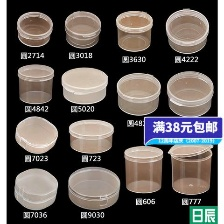plastic_box: (165, 139, 215, 199), (63, 163, 122, 211), (160, 3, 211, 56), (162, 67, 215, 118), (120, 140, 167, 196), (112, 68, 163, 119), (10, 164, 60, 213), (57, 63, 112, 106), (11, 111, 61, 157), (64, 114, 117, 156), (110, 6, 156, 54), (12, 59, 56, 106), (60, 6, 104, 51), (12, 7, 55, 49)
